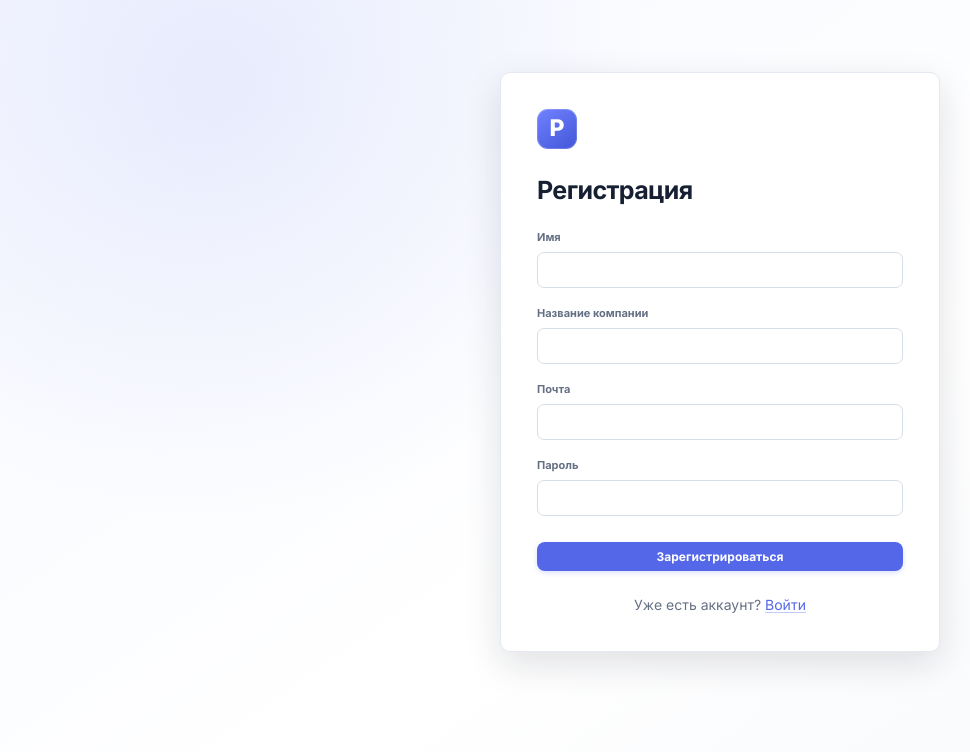
Test: экран регистрации › не отправляет форму с коротким паролем и объясняет почему
Type "short" into the password field labelled "Пароль".
click(720, 498); type("short")  # box [537,480,903,516]
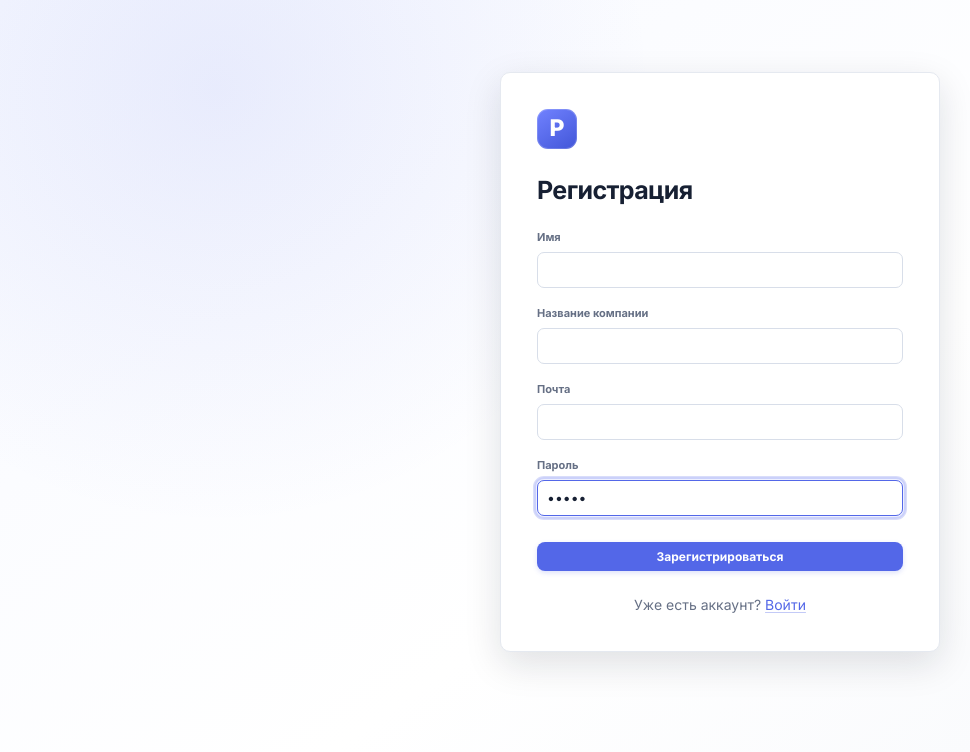
Click the button "Зарегистрироваться".
click(720, 556)  # box [537,542,903,571]
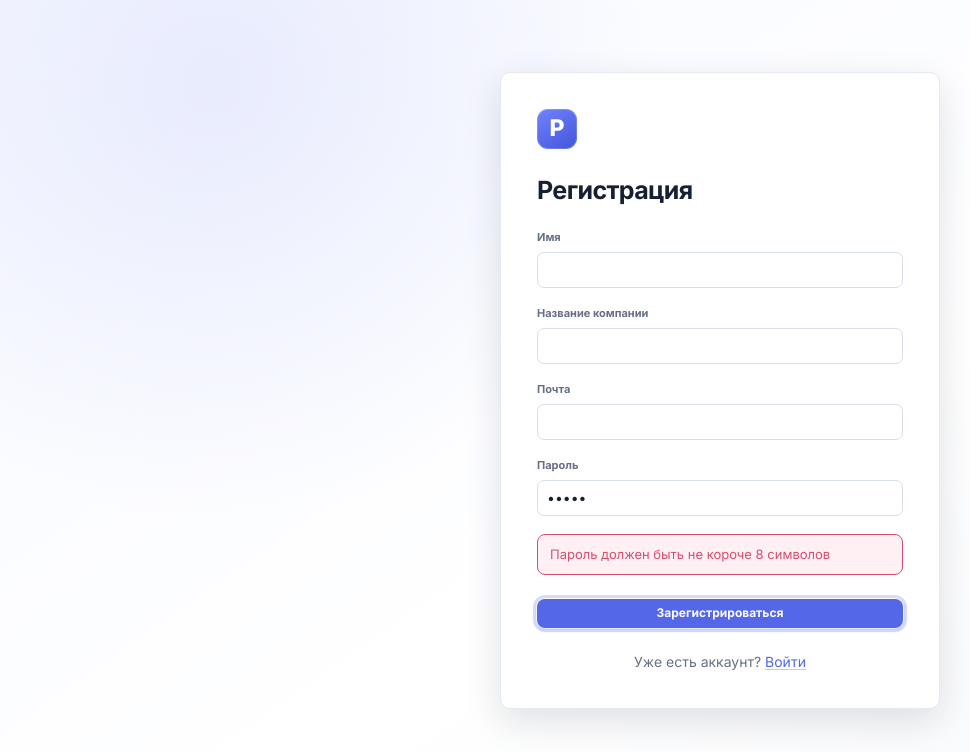
Now the text "Пароль должен быть не короче 8 символов" is shown, box [537,534,903,575]
